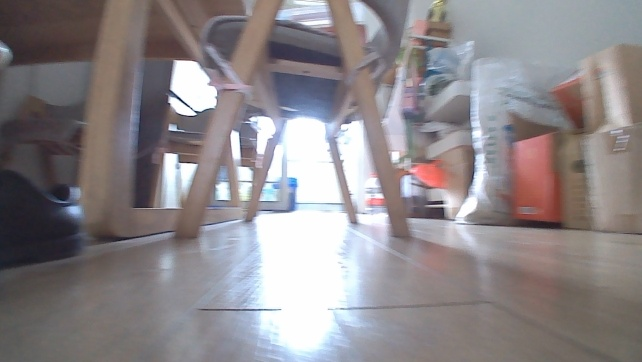dining_table1: (0, 0, 420, 244)
